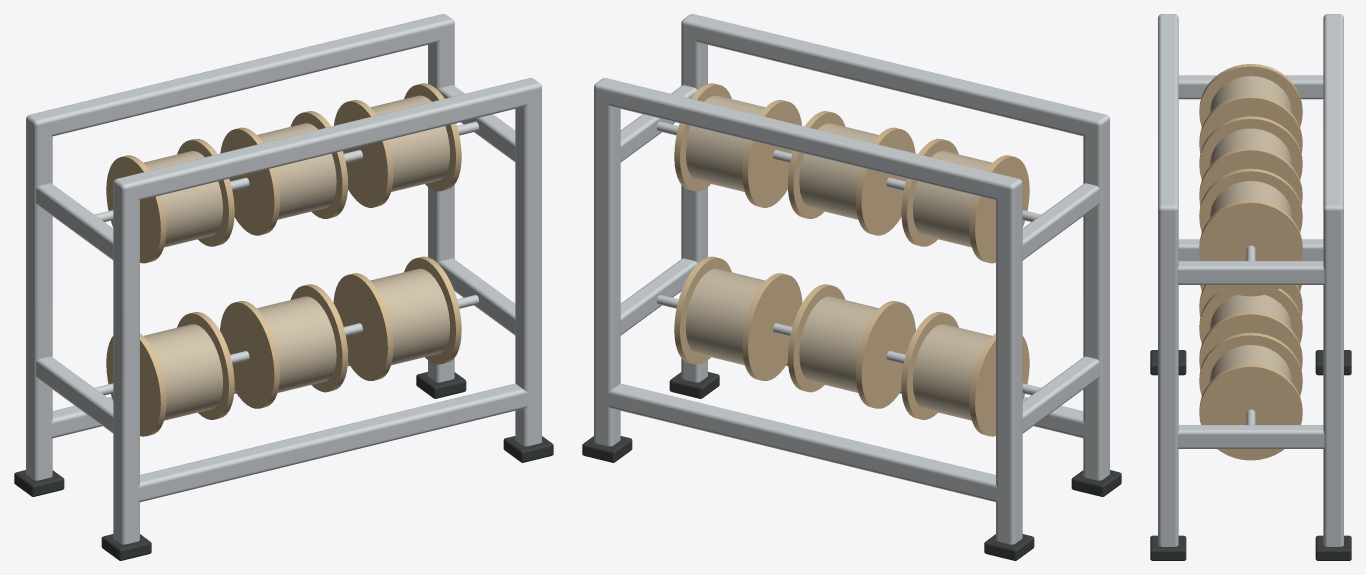
File: candlemaking-and-soap-workshop-wick-spool-rack-55a322a2__30653.glb
The picture shows the model from 3 angles, left to right: view 1: azimuth 30°, elevation 25°; view 2: azimuth 150°, elevation 25°; view 3: azimuth 270°, elevation 25°; orthographic projection. The views are drawn at different scales.
Parts seen in each view (by area): view 1: wick-spool-rack; view 2: wick-spool-rack; view 3: wick-spool-rack.
Part boxes in pixels (x1,y1,x2,y2): wick-spool-rack: [14, 14, 553, 560]; wick-spool-rack: [582, 14, 1121, 560]; wick-spool-rack: [1150, 14, 1351, 560].
Bounding box in the file's own units: 0.92 × 0.7501 × 0.39.
